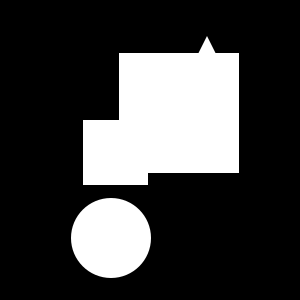circle: (119, 53, 239, 173), (83, 120, 148, 185)
rectangle: (71, 198, 151, 278)
triangle: (177, 36, 237, 96)
